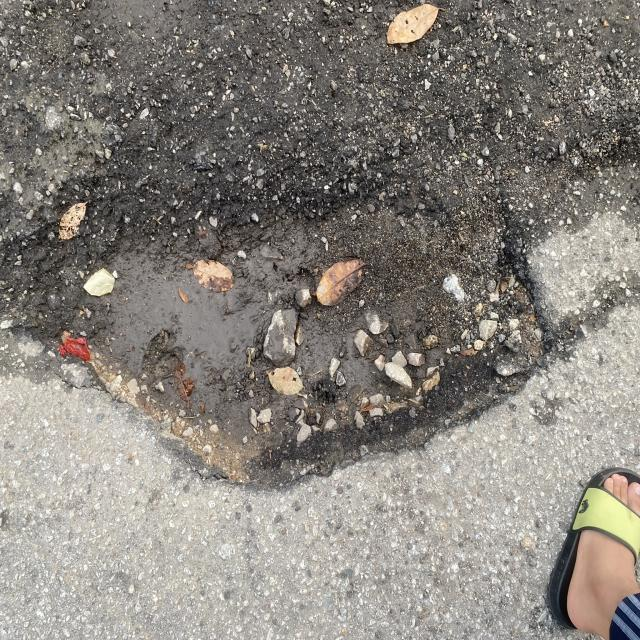Pothole: (17, 157, 620, 491)
